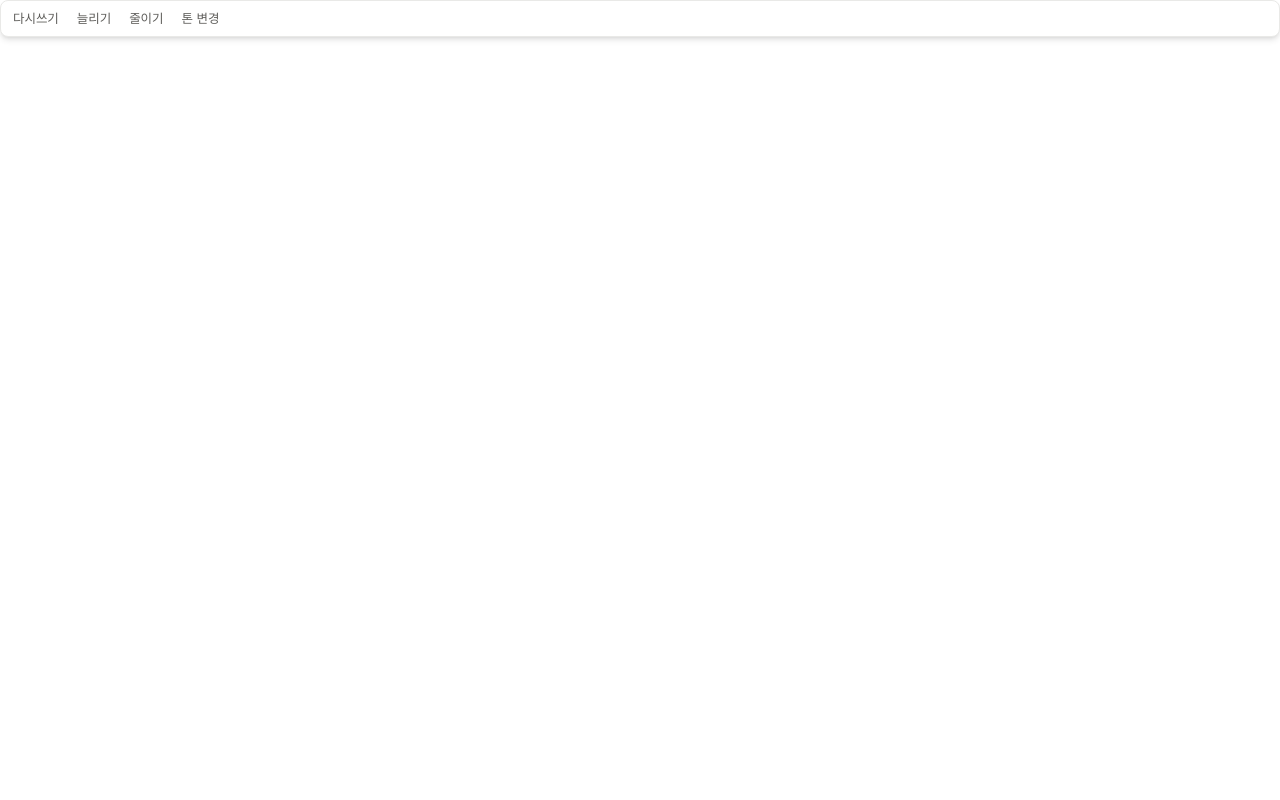
SelectionAiMenu 스트리밍 미리보기 › 스트림 에러가 발생하면 에러 메시지를 화면에 표시하고 적용 버튼을 감춘다
Click the button "늘리기". click: point(94, 18)
box: [69,5,119,32]
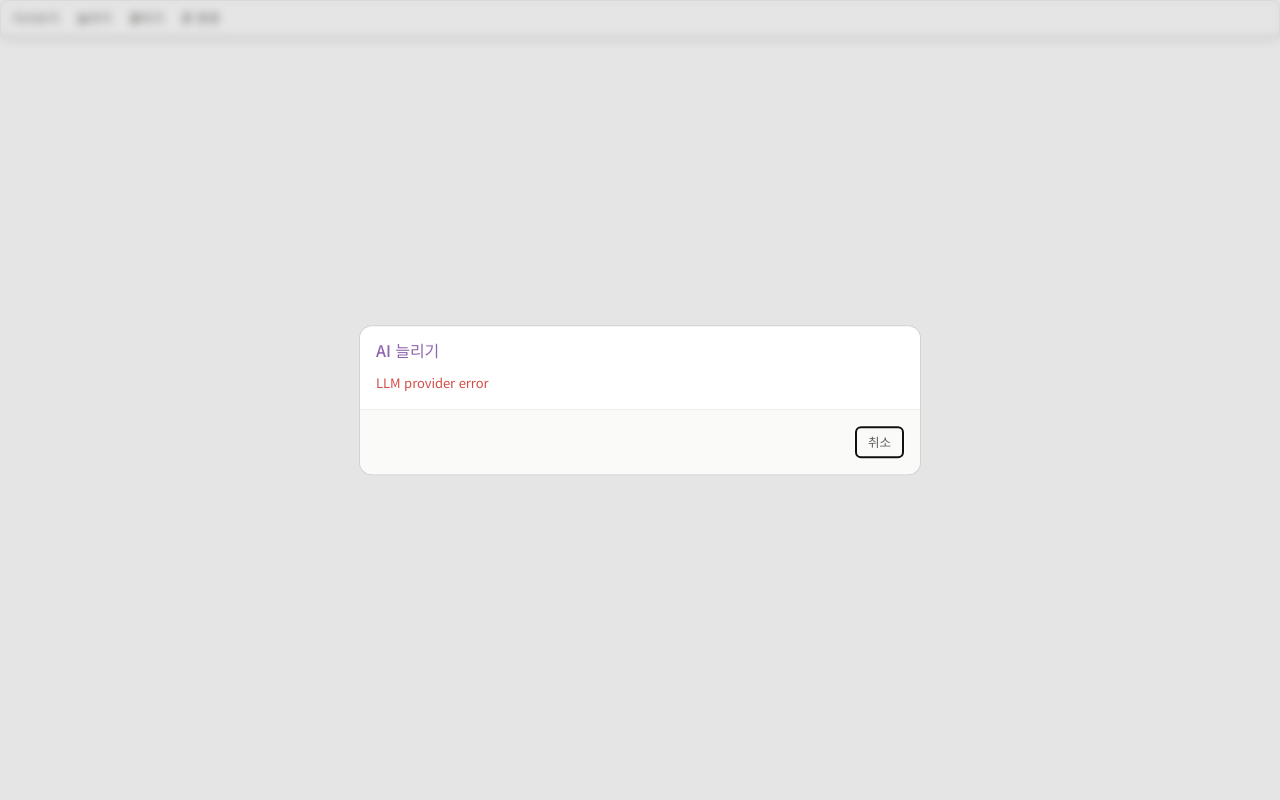
Now the text "LLM provider error" is shown, box [376,373,488,392]
